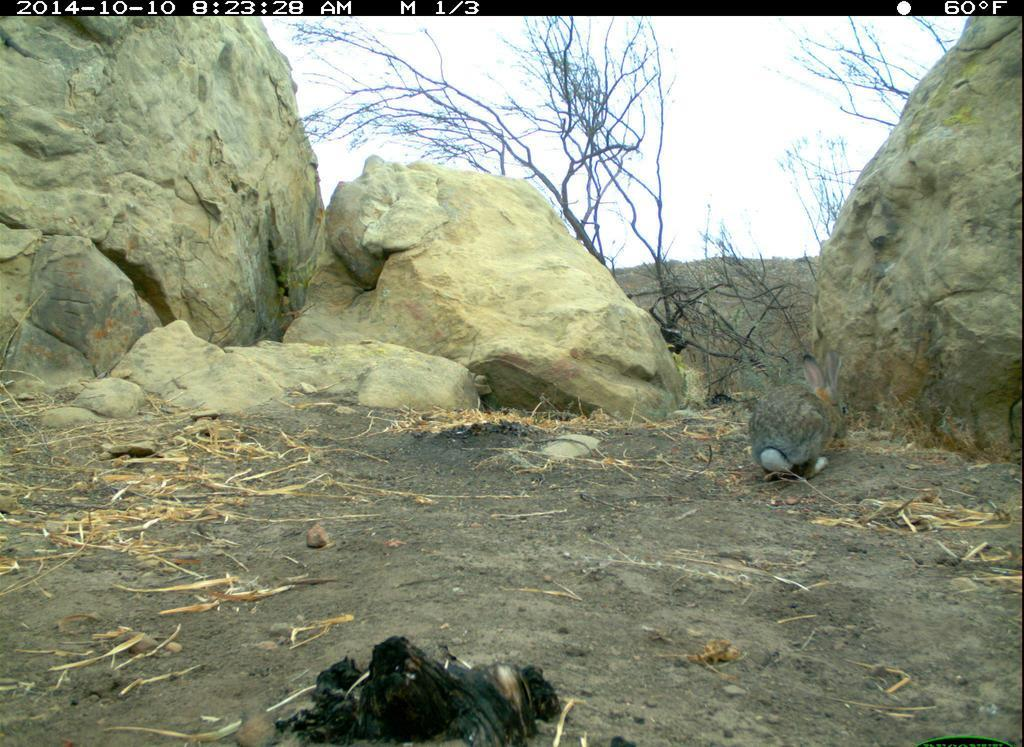rabbit: (748, 346, 856, 482)
